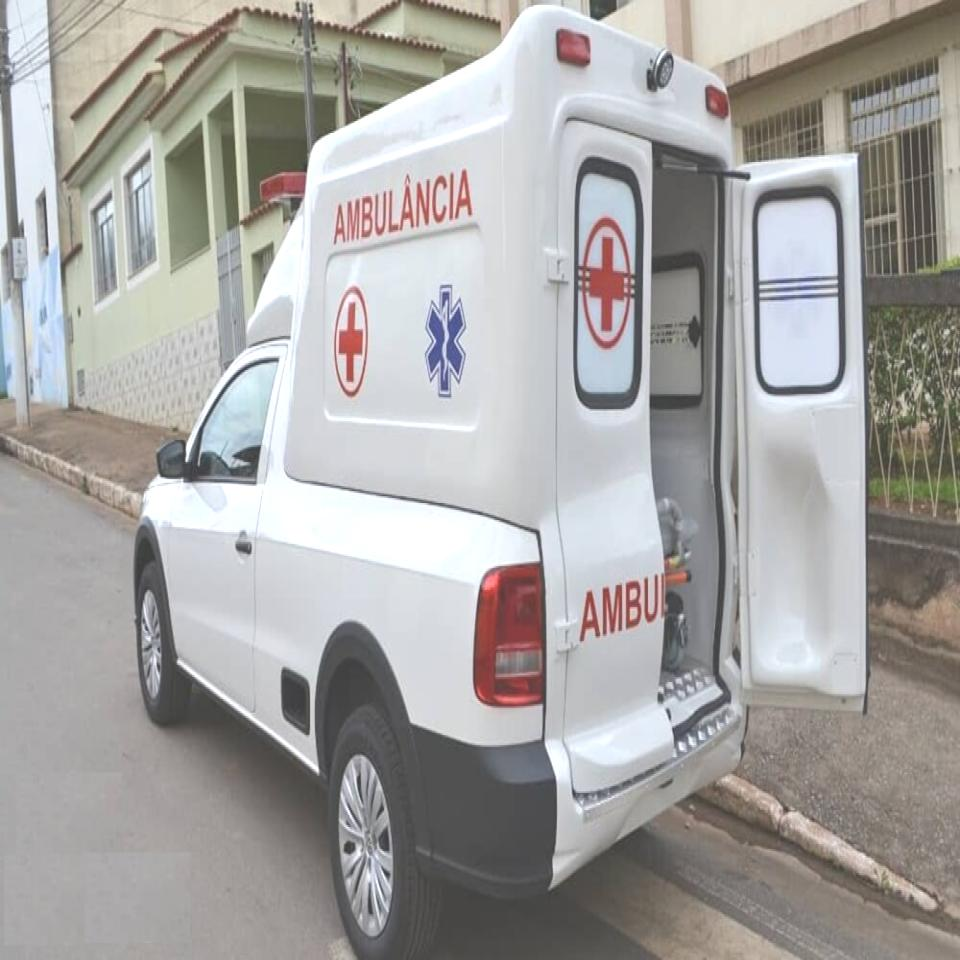ambulancia: (131, 0, 874, 960)
